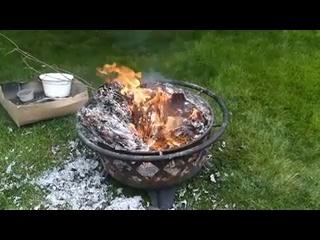Fire: (102, 62, 177, 145)
